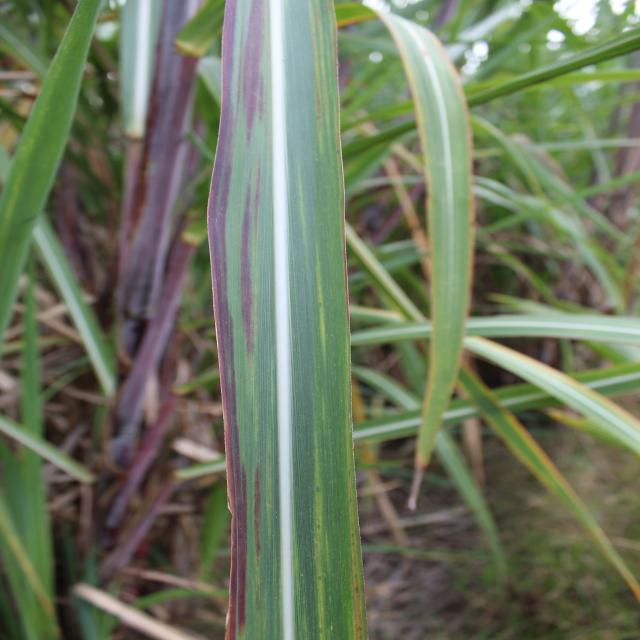Sugarcane: (217, 8, 368, 640), (376, 10, 478, 508), (0, 1, 108, 361), (456, 336, 640, 465)
